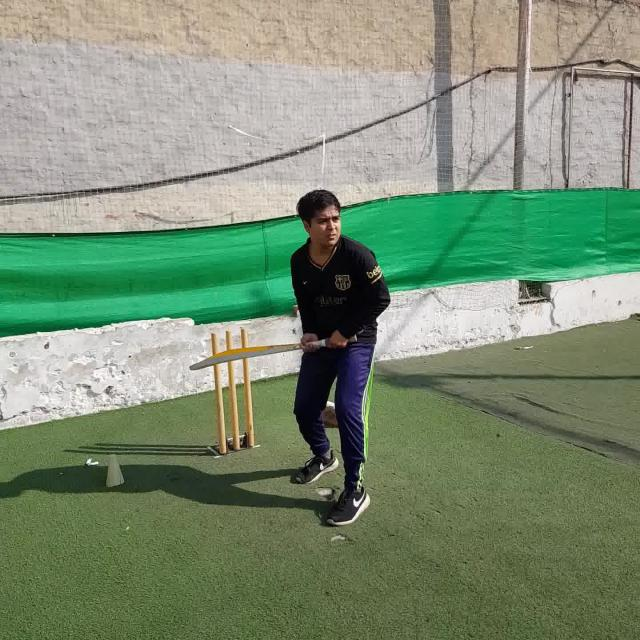bat: (187, 334, 361, 370)
